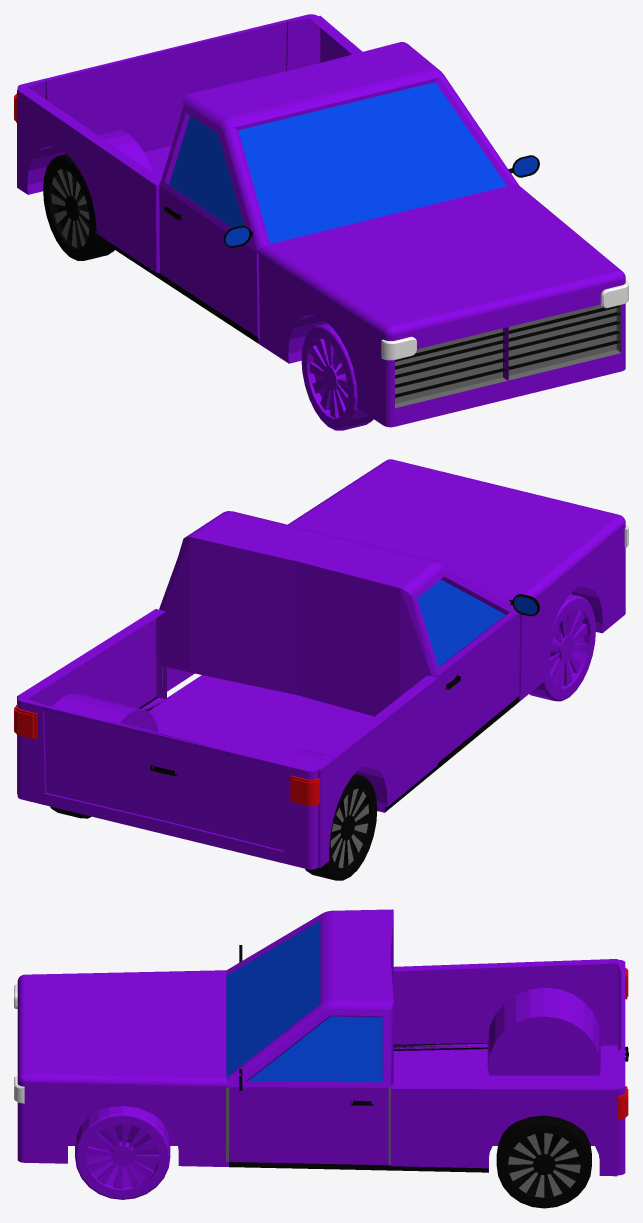
Rendered from Truck.glb.
3 renders of one model, top to bottom at view 1: azimuth 30°, elevation 25°; view 2: azimuth 150°, elevation 25°; view 3: azimuth 270°, elevation 25°, orthographic. The views are drawn at different scales.
Parts seen in each view (by area): view 1: Cube; view 2: Cube; view 3: Cube.
Part boxes in pixels (x1,y1,x2,y2): Cube: (14, 14, 628, 430); Cube: (14, 459, 628, 880); Cube: (14, 909, 628, 1208).
Size of the model in its own units: 2.1 by 1.39 by 4.02.
